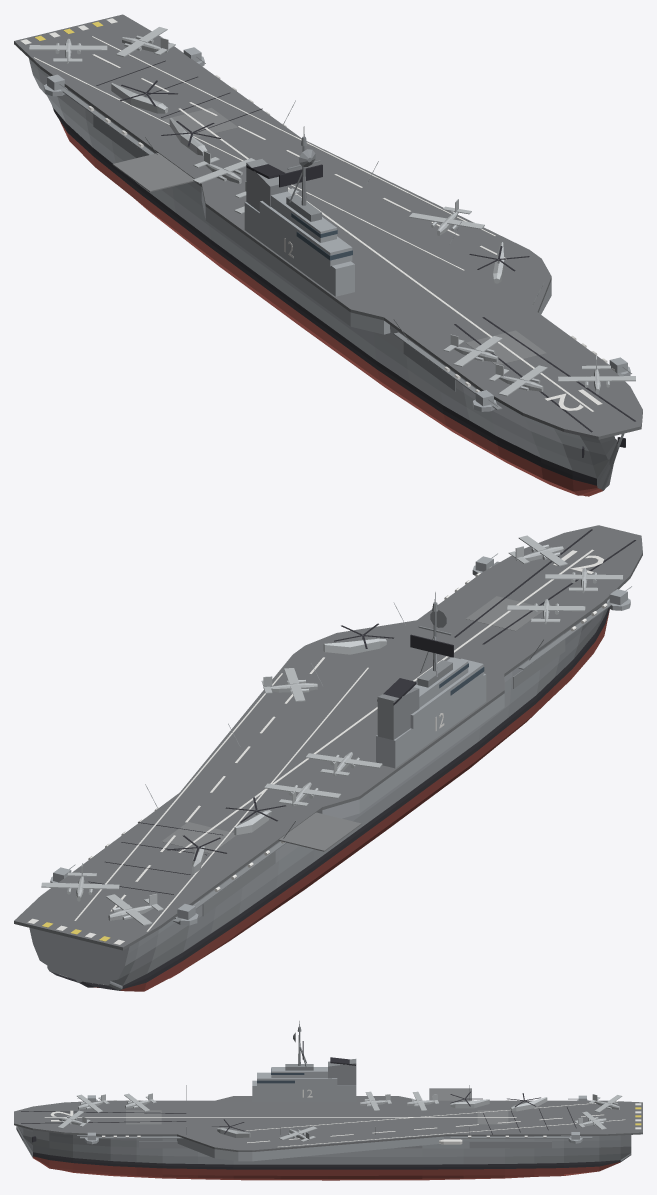
Rendered from hornet.glb.
3 renders of one model, top to bottom at view 1: azimuth 30°, elevation 25°; view 2: azimuth 150°, elevation 25°; view 3: azimuth 270°, elevation 25°, orthographic. The views are drawn at different scales.
Visible parts, largest first — view 1: hornet; view 2: hornet; view 3: hornet.
Boxes of the visible parts, x1,y1,x2,y2 form: hornet: (14,14,642,496); hornet: (14,525,642,991); hornet: (14,1021,642,1180).
Size of the model in its own units: 62.5 by 62.2 by 266.
